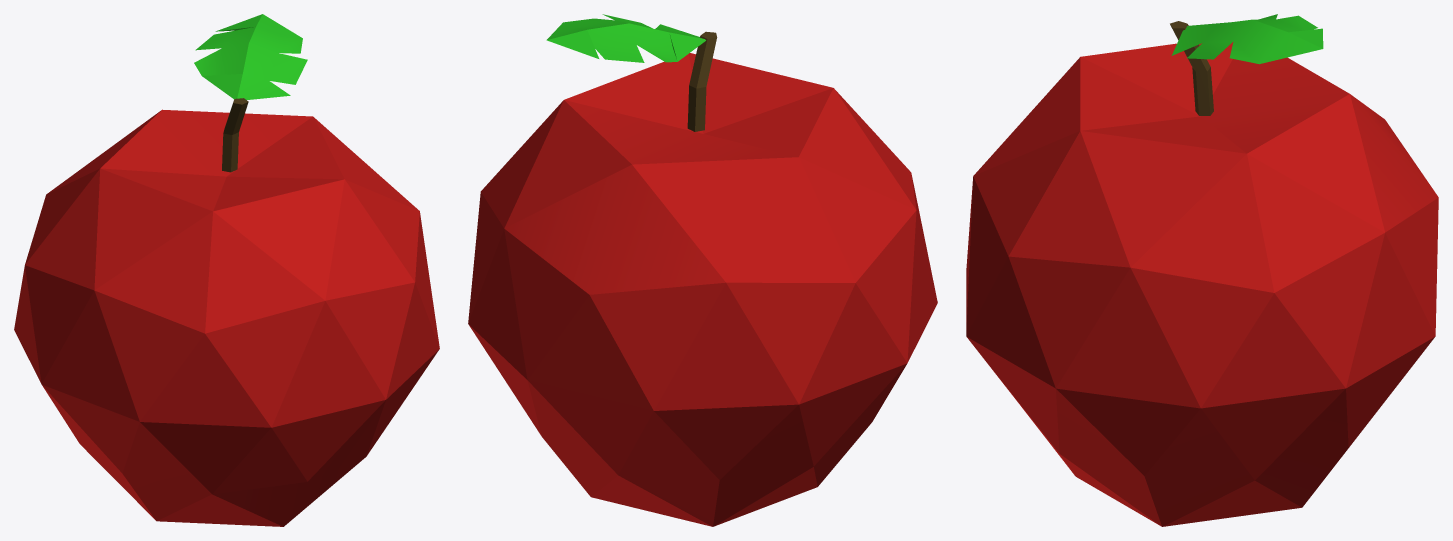
File: Red apple.fbx
3 renders of one model, left to right at view 1: azimuth 30°, elevation 25°; view 2: azimuth 150°, elevation 25°; view 3: azimuth 270°, elevation 25°, orthographic. The views are drawn at different scales.
Parts seen in each view (by area): view 1: Red apple, Red apple.001; view 2: Red apple; view 3: Red apple.
Part boxes in pixels (<box>): Red apple: <box>14,14,439,526</box>; Red apple.001: <box>222,55,305,171</box>; Red apple: <box>468,14,937,526</box>; Red apple: <box>966,14,1438,526</box>.
Size of the model in its own units: 204 by 219 by 195.
